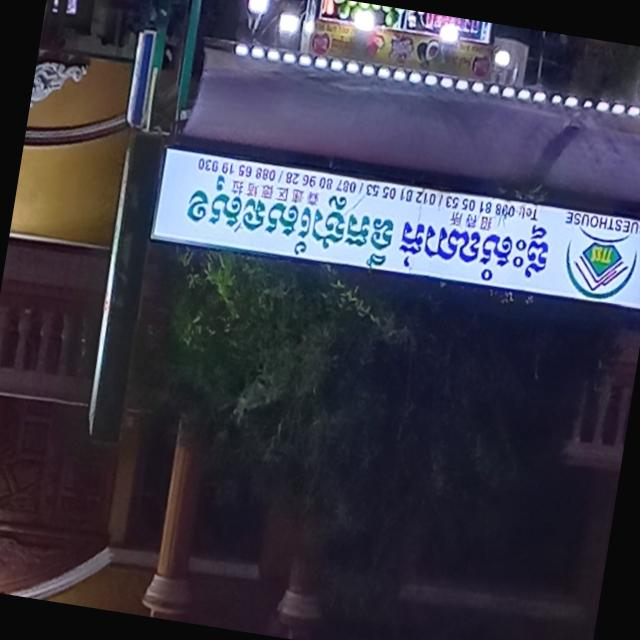492: (193, 152, 516, 221)
Yolov11kh: (182, 172, 556, 294)
